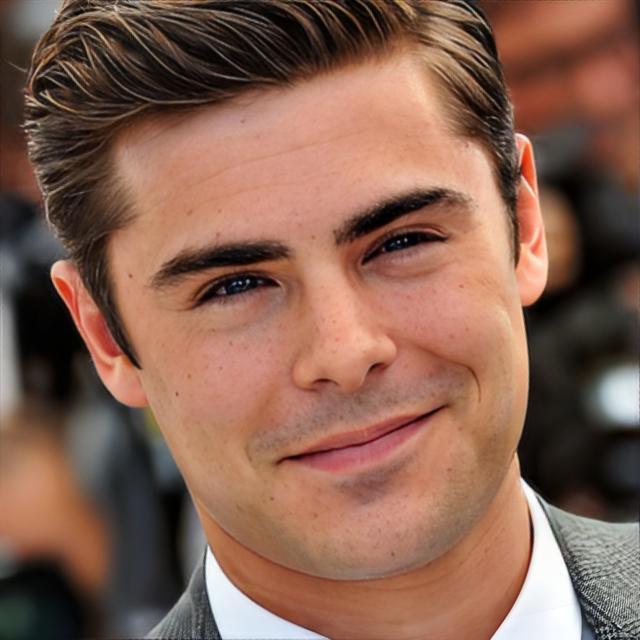content: (102, 26, 532, 580)
